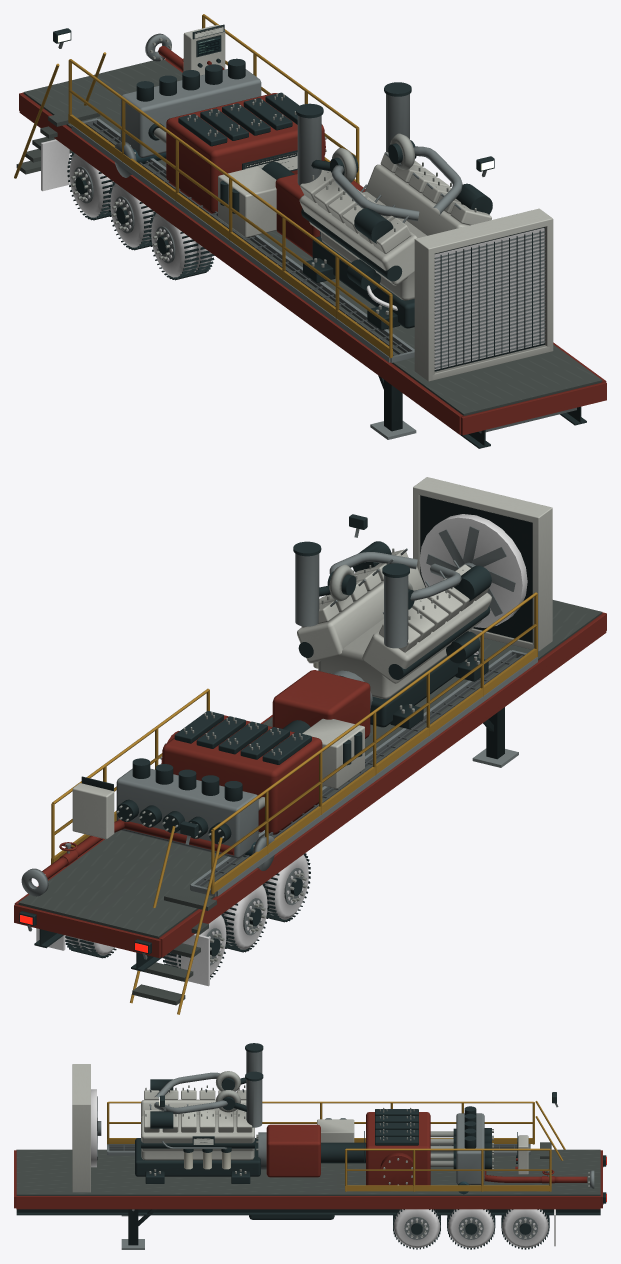
The model's file is frac_pump_truck_single_lodH.glb.
The picture shows the model from 3 angles, top to bottom: view 1: azimuth 30°, elevation 25°; view 2: azimuth 150°, elevation 25°; view 3: azimuth 270°, elevation 25°; orthographic projection. The views are drawn at different scales.
Visible parts, largest first — view 1: trailer_chassis_deck, trailer_chassis_oxide, engine_castings_ivory, handrails_yellow, radiator_rubber, radiator_steel, radiator_ivory, pump_power_end_oxide, service_walkway_steel, pump_fluid_end_steel, running_gear_rubber, pump_power_end_dark (+19 smaller); view 2: trailer_chassis_deck, trailer_chassis_oxide, engine_castings_ivory, handrails_yellow, pump_power_end_oxide, radiator_ivory, pump_fluid_end_steel, service_walkway_steel, radiator_rubber, transmission_oxide, pump_power_end_dark, engine_castings_dark (+17 smaller); view 3: trailer_chassis_deck, trailer_chassis_oxide, engine_castings_ivory, handrails_yellow, running_gear_rubber, trailer_chassis_dark, pump_power_end_oxide, engine_castings_dark, transmission_oxide, radiator_ivory, pump_power_end_dark, pump_fluid_end_steel (+19 smaller).
Boxes of the visible parts, <box> form: trailer_chassis_deck: <box>23,59,602,415</box>; trailer_chassis_oxide: <box>19,59,606,435</box>; engine_castings_ivory: <box>299,152,491,300</box>; handrails_yellow: <box>68,14,392,358</box>; radiator_rubber: <box>434,228,544,369</box>; radiator_steel: <box>434,231,545,368</box>; radiator_ivory: <box>414,208,553,381</box>; pump_power_end_oxide: <box>166,93,325,213</box>; service_walkway_steel: <box>71,118,414,362</box>; pump_fluid_end_steel: <box>120,69,261,157</box>; running_gear_rubber: <box>69,153,211,277</box>; pump_power_end_dark: <box>178,92,299,171</box>; trailer_chassis_deck: <box>18,600,602,938</box>; trailer_chassis_oxide: <box>14,612,606,958</box>; engine_castings_ivory: <box>297,549,491,699</box>; handrails_yellow: <box>51,592,537,894</box>; pump_power_end_oxide: <box>161,715,322,834</box>; radiator_ivory: <box>413,477,552,651</box>; pump_fluid_end_steel: <box>116,768,258,858</box>; service_walkway_steel: <box>190,650,537,896</box>; radiator_rubber: <box>419,514,527,627</box>; transmission_oxide: <box>272,670,370,738</box>; pump_power_end_dark: <box>174,711,311,764</box>; engine_castings_dark: <box>298,606,490,729</box>; trailer_chassis_deck: <box>16,1149,600,1195</box>; trailer_chassis_oxide: <box>14,1150,602,1209</box>; engine_castings_ivory: <box>141,1090,254,1160</box>; handrails_yellow: <box>107,1101,551,1191</box>; running_gear_rubber: <box>393,1209,548,1247</box>; trailer_chassis_dark: <box>16,1209,600,1215</box>; pump_power_end_oxide: <box>366,1112,430,1185</box>; engine_castings_dark: <box>135,1138,260,1183</box>; transmission_oxide: <box>266,1124,320,1177</box>; radiator_ivory: <box>72,1064,90,1192</box>; pump_power_end_dark: <box>364,1109,418,1162</box>; pump_fluid_end_steel: <box>456,1113,484,1184</box>.
Size of the model in its own units: 3.14 by 4.43 by 14.21.
14 materials, 14 textured.
